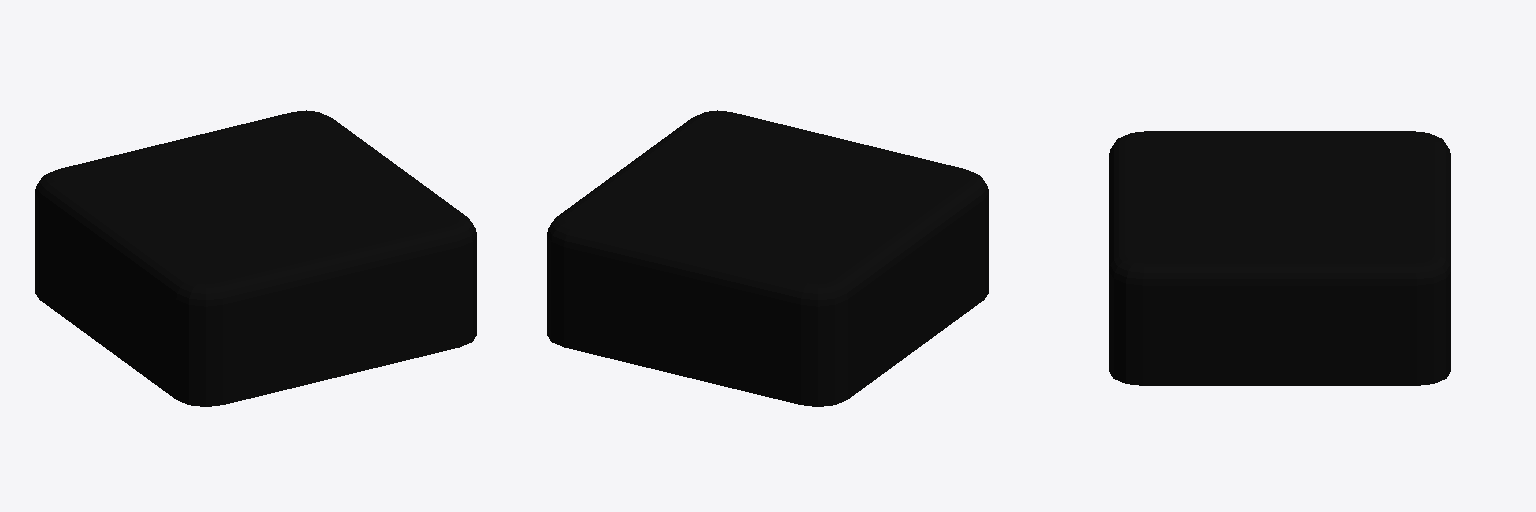
File: StoneFloorTextured.obj
3 renders of one model, left to right at view 1: azimuth 30°, elevation 25°; view 2: azimuth 150°, elevation 25°; view 3: azimuth 270°, elevation 25°, orthographic.
Parts seen in each view (by area): view 1: pCube11 TyleRow04 FloorFloor Floor; view 2: pCube11 TyleRow04 FloorFloor Floor; view 3: pCube11 TyleRow04 FloorFloor Floor.
Boxes of the visible parts, x1=… form: pCube11 TyleRow04 FloorFloor Floor: x1=35, y1=110, x2=476, y2=406; pCube11 TyleRow04 FloorFloor Floor: x1=547, y1=110, x2=988, y2=406; pCube11 TyleRow04 FloorFloor Floor: x1=1109, y1=131, x2=1450, y2=385.
Size of the model in its own units: 1 by 0.3721 by 1.